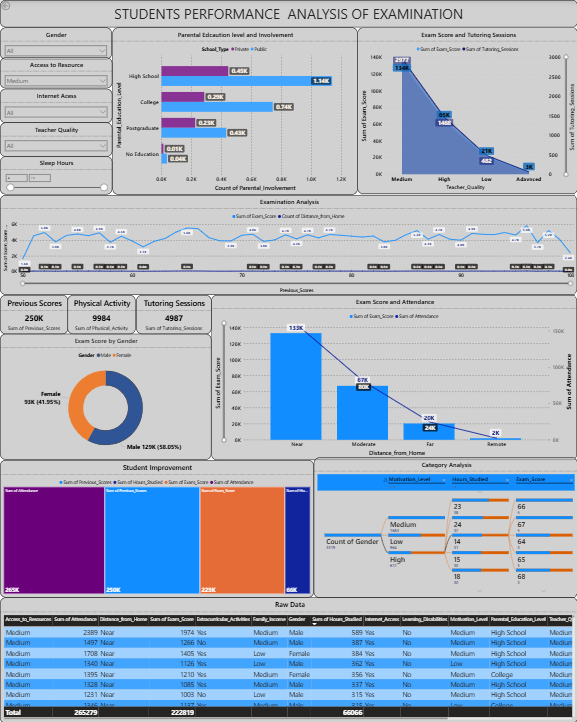

This screenshot's page, from the dashboard's own definition file:
{"tool":"powerbi","page":{"name":"Page 1","canvas":[2000,2500],"ordinal":0},"visuals":[{"type":"clusteredBarChart","title":"Parental Edcaution level and Involvement","fields":{"Category":["StudentPerformanceFactors.Parental_Education_Level"],"Y":["CountNonNull(StudentPerformanceFactors.Parental_Involvement)"],"Series":["StudentPerformanceFactors.School_Type"]},"box":[387.5,95,847.5,577.5],"z":0},{"type":"donutChart","title":"Exam Score by Gender","fields":{"Y":["Sum(StudentPerformanceFactors.Exam_Score)"],"Category":["StudentPerformanceFactors.Gender"]},"box":[0,1152.5,730,435],"z":1000},{"type":"lineStackedColumnComboChart","title":"Exam Score and Attendance","fields":{"Category":["StudentPerformanceFactors.Distance_from_Home"],"Y2":["Sum(StudentPerformanceFactors.Attendance)"],"Y":["Sum(StudentPerformanceFactors.Exam_Score)"]},"box":[730,1017.5,1267.5,570],"z":2000},{"type":"areaChart","title":"Exam Score and Tutoring Sessions ","fields":{"Category":["StudentPerformanceFactors.Teacher_Quality"],"Y2":["Sum(StudentPerformanceFactors.Tutoring_Sessions)"],"Y":["Sum(StudentPerformanceFactors.Exam_Score)"]},"box":[1235,95,765,575],"z":3000},{"type":"decompositionTreeVisual","title":"Category  Analysis","fields":{"Analyze":["CountNonNull(StudentPerformanceFactors.Gender)"],"ExplainBy":["StudentPerformanceFactors.Motivation_Level","StudentPerformanceFactors.Hours_Studied","StudentPerformanceFactors.Exam_Score","StudentPerformanceFactors.Attendance","StudentPerformanceFactors.Physical_Activity"]},"box":[1085,1580,915,485],"z":4000},{"type":"slicer","title":"Gender","fields":{"Values":["StudentPerformanceFactors.Gender"]},"box":[0,94,386,110],"z":5000},{"type":"slicer","title":"Internet Acess","fields":{"Values":["StudentPerformanceFactors.Internet_Access"]},"box":[0,306,388,118],"z":6000},{"type":"slicer","title":"Access to Resource ","fields":{"Values":["StudentPerformanceFactors.Access_to_Resources"]},"box":[0,200,388,106],"z":7000},{"type":"card","title":"Physical Activity","fields":{"Values":["Sum(StudentPerformanceFactors.Physical_Activity)"]},"box":[235,1017.5,235,135],"z":8000},{"type":"card","title":"Tutoring Sessions","fields":{"Values":["Sum(StudentPerformanceFactors.Tutoring_Sessions)"]},"box":[470,1017.5,260,135],"z":9000},{"type":"card","title":"Previous Scores","fields":{"Values":["Sum(StudentPerformanceFactors.Previous_Scores)"]},"box":[0,1017.5,235,135],"z":10000},{"type":"tableEx","title":"Raw Data","fields":{"Values":["StudentPerformanceFactors.Access_to_Resources","Sum(StudentPerformanceFactors.Attendance)","StudentPerformanceFactors.Distance_from_Home","Sum(StudentPerformanceFactors.Exam_Score)","StudentPerformanceFactors.Extracurricular_Activities","StudentPerformanceFactors.Family_Income","StudentPerformanceFactors.Gender","Sum(StudentPerformanceFactors.Hours_Studied)","StudentPerformanceFactors.Internet_Access","StudentPerformanceFactors.Learning_Disabilities","StudentPerformanceFactors.Motivation_Level","StudentPerformanceFactors.Parental_Education_Level"]},"box":[0,2065,2000,435],"z":11000},{"type":"actionButton","box":[0,0,100,40],"z":12000},{"type":"treemap","title":" Student Improvement","fields":{"Values":["Sum(StudentPerformanceFactors.Previous_Scores)","Sum(StudentPerformanceFactors.Hours_Studied)","Sum(StudentPerformanceFactors.Exam_Score)","Sum(StudentPerformanceFactors.Attendance)"]},"box":[0,1587.5,1085,475],"z":13000},{"type":"textbox","box":[0,0,2000,94],"z":14000},{"type":"slicer","title":"Teacher Quality","fields":{"Values":["StudentPerformanceFactors.Teacher_Quality"]},"box":[0,424,388,118],"z":15000},{"type":"lineClusteredColumnComboChart","title":"Examination Analysis","fields":{"Y2":["Sum(StudentPerformanceFactors.Exam_Score)","CountNonNull(StudentPerformanceFactors.Distance_from_Home)"],"Category":["StudentPerformanceFactors.Previous_Scores"]},"box":[0,672.5,1997.5,345],"z":16000},{"type":"slicer","title":"Sleep Hours","fields":{"Values":["StudentPerformanceFactors.Sleep_Hours"]},"box":[0,542,388,132],"z":17000}]}

Visuals, with their boxes in screenshot pixels (x1, y1, x2, y2), scaled from the page's 2000x2500 canvas onto the 577x722 screenshot:
"Parental Edcaution level and Involvement" clusteredBarChart: 112, 27, 356, 194
"Exam Score by Gender" donutChart: 0, 333, 211, 458
"Exam Score and Attendance" lineStackedColumnComboChart: 211, 294, 576, 458
"Exam Score and Tutoring Sessions " areaChart: 356, 27, 576, 193
"Category  Analysis" decompositionTreeVisual: 313, 456, 576, 596
"Gender" slicer: 0, 27, 111, 59
"Internet Acess" slicer: 0, 88, 112, 122
"Access to Resource " slicer: 0, 58, 112, 88
"Physical Activity" card: 68, 294, 136, 333
"Tutoring Sessions" card: 136, 294, 211, 333
"Previous Scores" card: 0, 294, 68, 333
"Raw Data" tableEx: 0, 596, 576, 721
actionButton: 0, 0, 29, 12
" Student Improvement" treemap: 0, 458, 313, 596
textbox: 0, 0, 576, 27
"Teacher Quality" slicer: 0, 122, 112, 157
"Examination Analysis" lineClusteredColumnComboChart: 0, 194, 576, 294
"Sleep Hours" slicer: 0, 157, 112, 195
